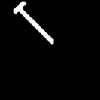half_double_crochet: (14, 2, 52, 43)
